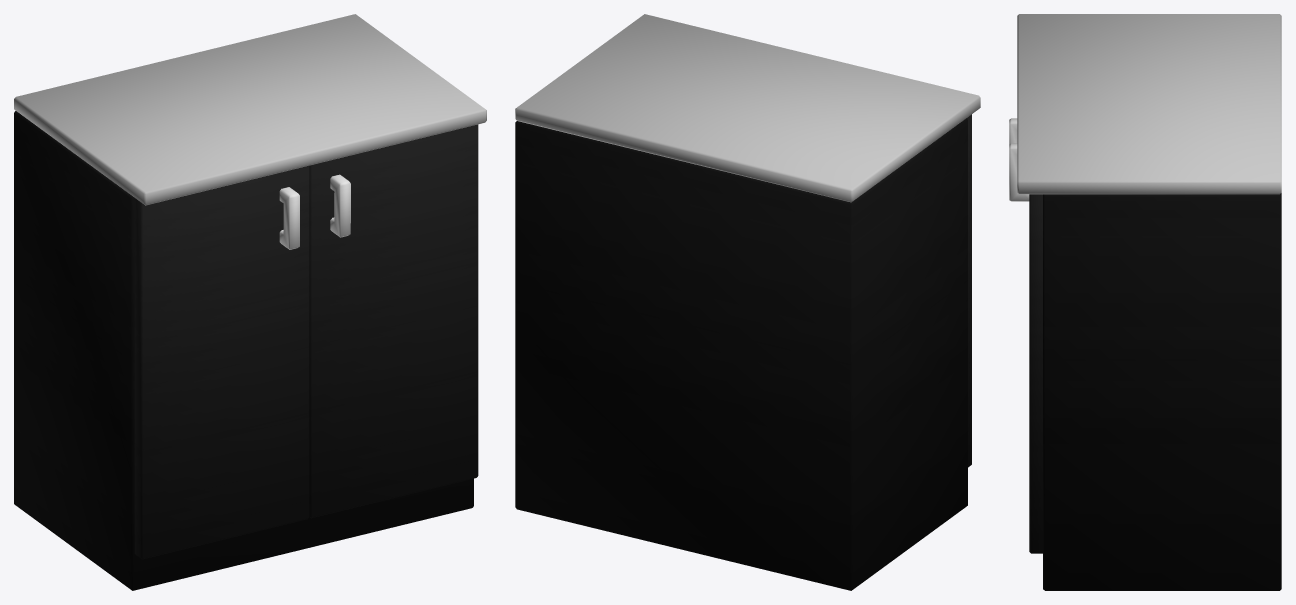
The model's file is SM_Prefabricated_kitchen_16.fbx.
The picture shows the model from 3 angles, left to right: view 1: azimuth 30°, elevation 25°; view 2: azimuth 150°, elevation 25°; view 3: azimuth 270°, elevation 25°; orthographic projection. The views are drawn at different scales.
Parts seen in each view (by area): view 1: SM_Prefabricated_kitchen_16; view 2: SM_Prefabricated_kitchen_16; view 3: SM_Prefabricated_kitchen_16.
Boxes of the visible parts, bbox=[...] form: SM_Prefabricated_kitchen_16: bbox=[14, 14, 486, 590]; SM_Prefabricated_kitchen_16: bbox=[515, 14, 980, 590]; SM_Prefabricated_kitchen_16: bbox=[1009, 14, 1281, 590].
Size of the model in its own units: 100 by 114 by 68.52.
1 material, 1 textured.
